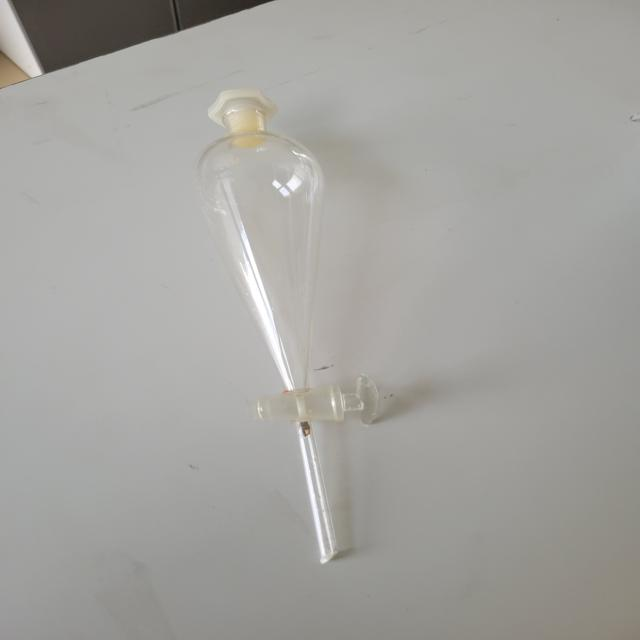Separating_Funnel: (153, 70, 451, 588)
